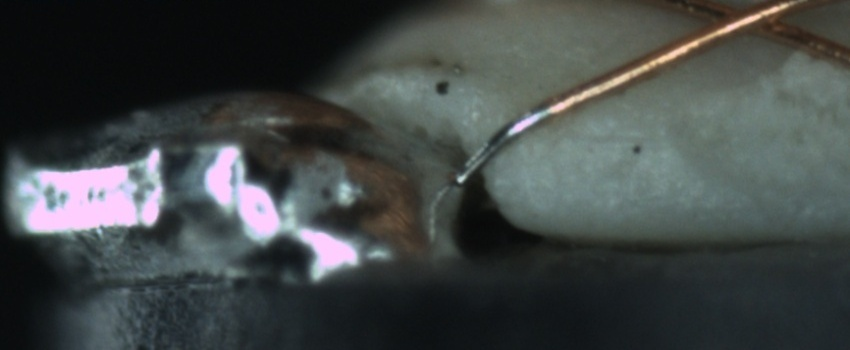CL: (679, 1, 816, 46)
DL: (559, 107, 676, 171)
TS: (456, 103, 554, 185)
TTCW: (459, 98, 569, 184)
